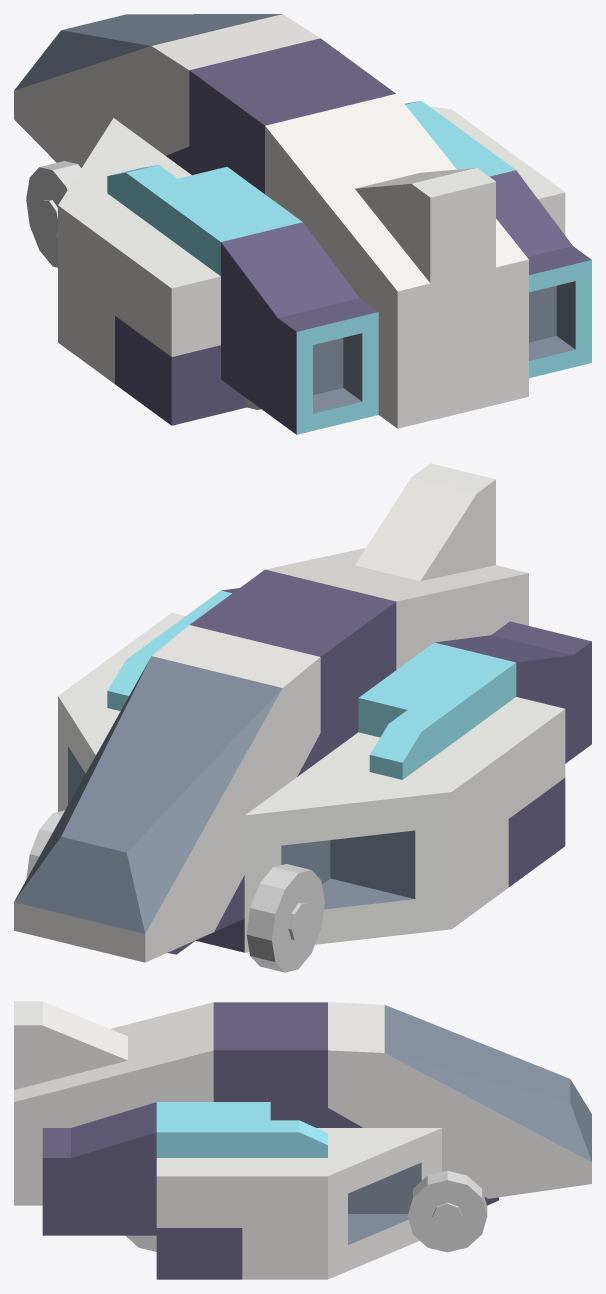
The model's file is vehicle_iskra.glb.
The picture shows the model from 3 angles, top to bottom: view 1: azimuth 30°, elevation 25°; view 2: azimuth 150°, elevation 25°; view 3: azimuth 270°, elevation 25°; orthographic projection. The views are drawn at different scales.
Visible parts, largest first — view 1: craft_racer, wheel_fl, wheel_fl_hub; view 2: craft_racer, wheel_fl, wheel_fr, wheel_fl_hub; view 3: craft_racer, wheel_fr, wheel_fr_hub.
Boxes of the visible parts, x1,y1,x2,y2 form: craft_racer: [14, 14, 591, 434]; wheel_fl: [26, 161, 81, 267]; wheel_fl_hub: [39, 200, 57, 237]; craft_racer: [14, 463, 591, 962]; wheel_fl: [246, 864, 324, 972]; wheel_fr: [26, 810, 64, 879]; wheel_fl_hub: [288, 903, 311, 940]; craft_racer: [14, 1001, 591, 1279]; wheel_fr: [407, 1171, 487, 1252]; wheel_fr_hub: [432, 1202, 462, 1231].
Bounding box in the file's own units: 1.36 × 0.85 × 2.3.
